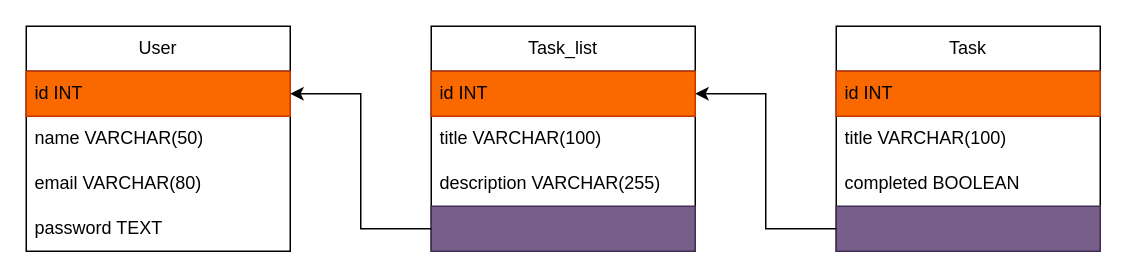
The diagram is 1127 pixels wide and 278 high, and some of its shapes have lost their labels. The centre of each missing label's shape, as x and y in pixels:
"list_id INT" goes at point (967, 228).
"user_id INT" goes at point (562, 228).
